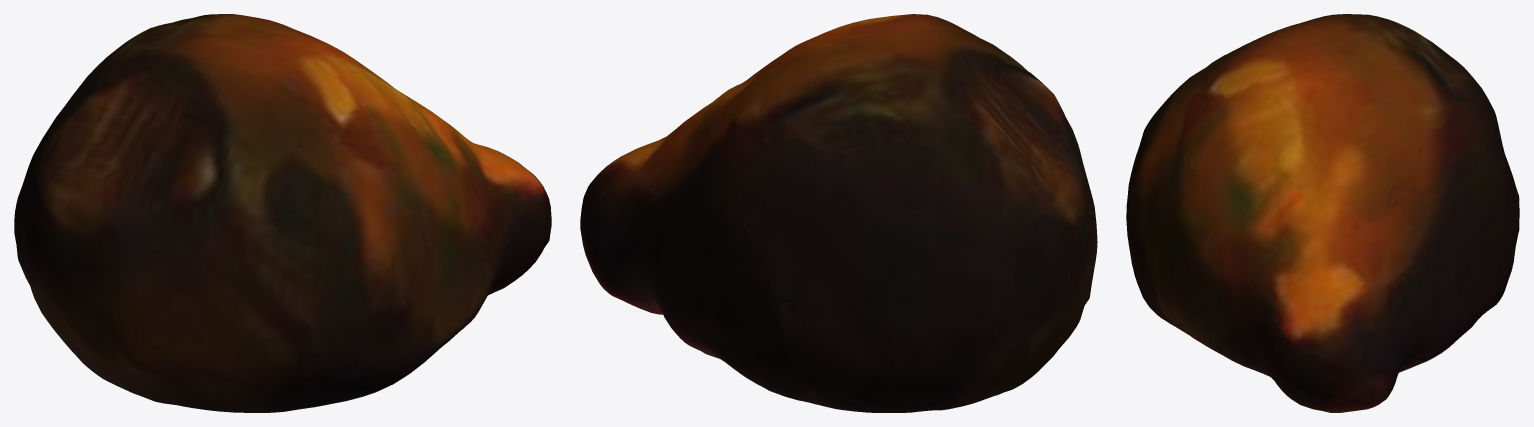
The picture shows the model from 3 angles, left to right: view 1: azimuth 30°, elevation 25°; view 2: azimuth 150°, elevation 25°; view 3: azimuth 270°, elevation 25°; orthographic projection. The views are drawn at different scales.
Visible parts, largest first — view 1: world; view 2: world; view 3: world.
Boxes of the visible parts, left/top/right/bottom form: world: left=14, top=14, right=551, bottom=412; world: left=580, top=14, right=1097, bottom=412; world: left=1126, top=14, right=1519, bottom=412.
Size of the model in its own units: 0.4661 by 0.2842 by 0.3683.
Materials: 1 (1 with a texture image).
